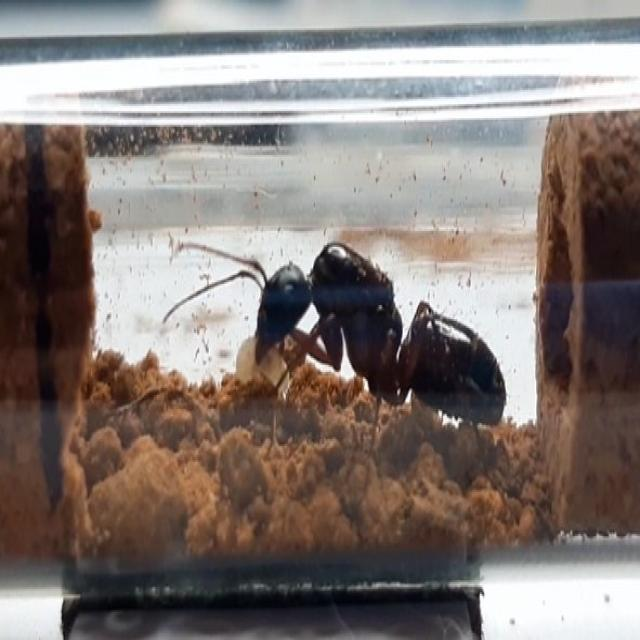Queen: (164, 239, 506, 440)
